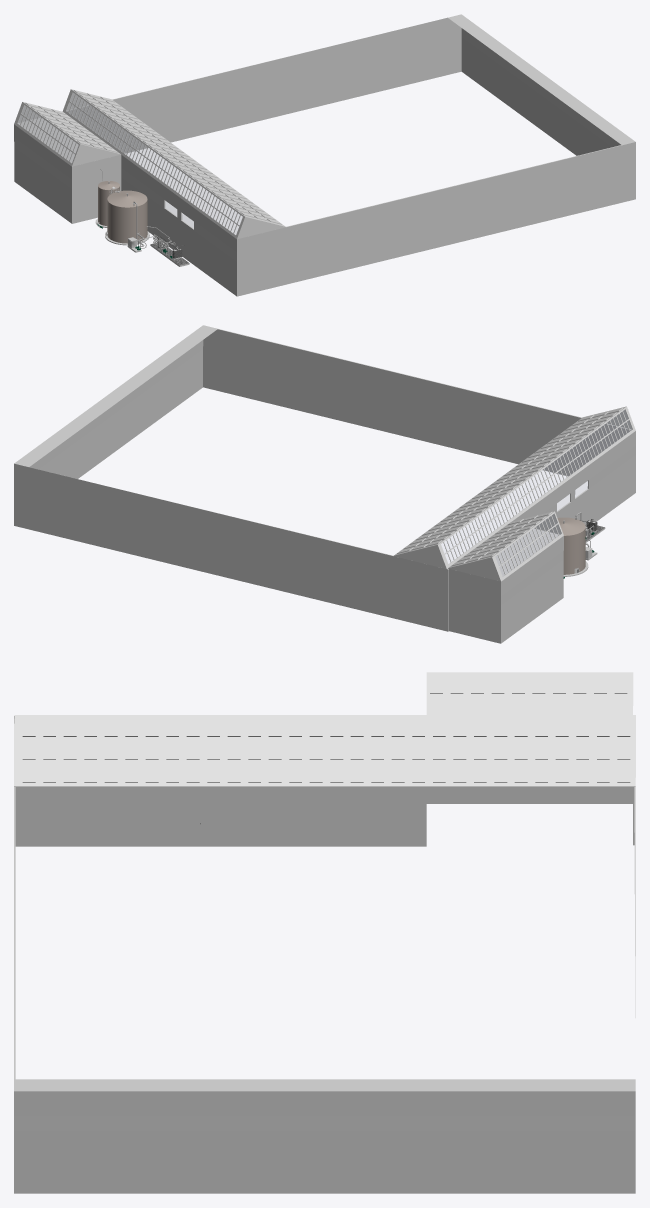
The model's file is reception.glb.
3 views of the same model, one above another, from view 1: azimuth 30°, elevation 25°; view 2: azimuth 150°, elevation 25°; view 3: azimuth 270°, elevation 25° (orthographic). The views are drawn at different scales.
Parts seen in each view (by area): view 1: Walls, Toit, pToit, Cuve_principale, Cuve_secondaire; view 2: Walls, Toit, pToit, Cuve_principale; view 3: Walls, Toit, pToit.
Part boxes in pixels (x1=…): Walls: x1=14, y1=14, x2=635, y2=296; Toit: x1=62, y1=89, x2=285, y2=239; pToit: x1=14, y1=102, x2=120, y2=166; Cuve_principale: x1=107, y1=190, x2=147, y2=243; Cuve_secondaire: x1=98, y1=181, x2=119, y2=225; Walls: x1=14, y1=325, x2=635, y2=643; Toit: x1=394, y1=406, x2=635, y2=568; pToit: x1=448, y1=511, x2=563, y2=581; Cuve_principale: x1=557, y1=517, x2=585, y2=574; Walls: x1=14, y1=787, x2=635, y2=1193; Toit: x1=14, y1=715, x2=635, y2=786; pToit: x1=426, y1=672, x2=633, y2=714.
Size of the model in its own units: 537 by 91.83 by 362.
8 materials, 1 textured.
